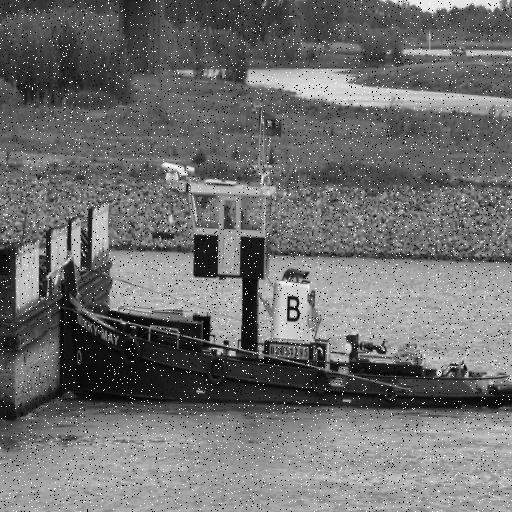tugboat: (57, 157, 512, 422)
